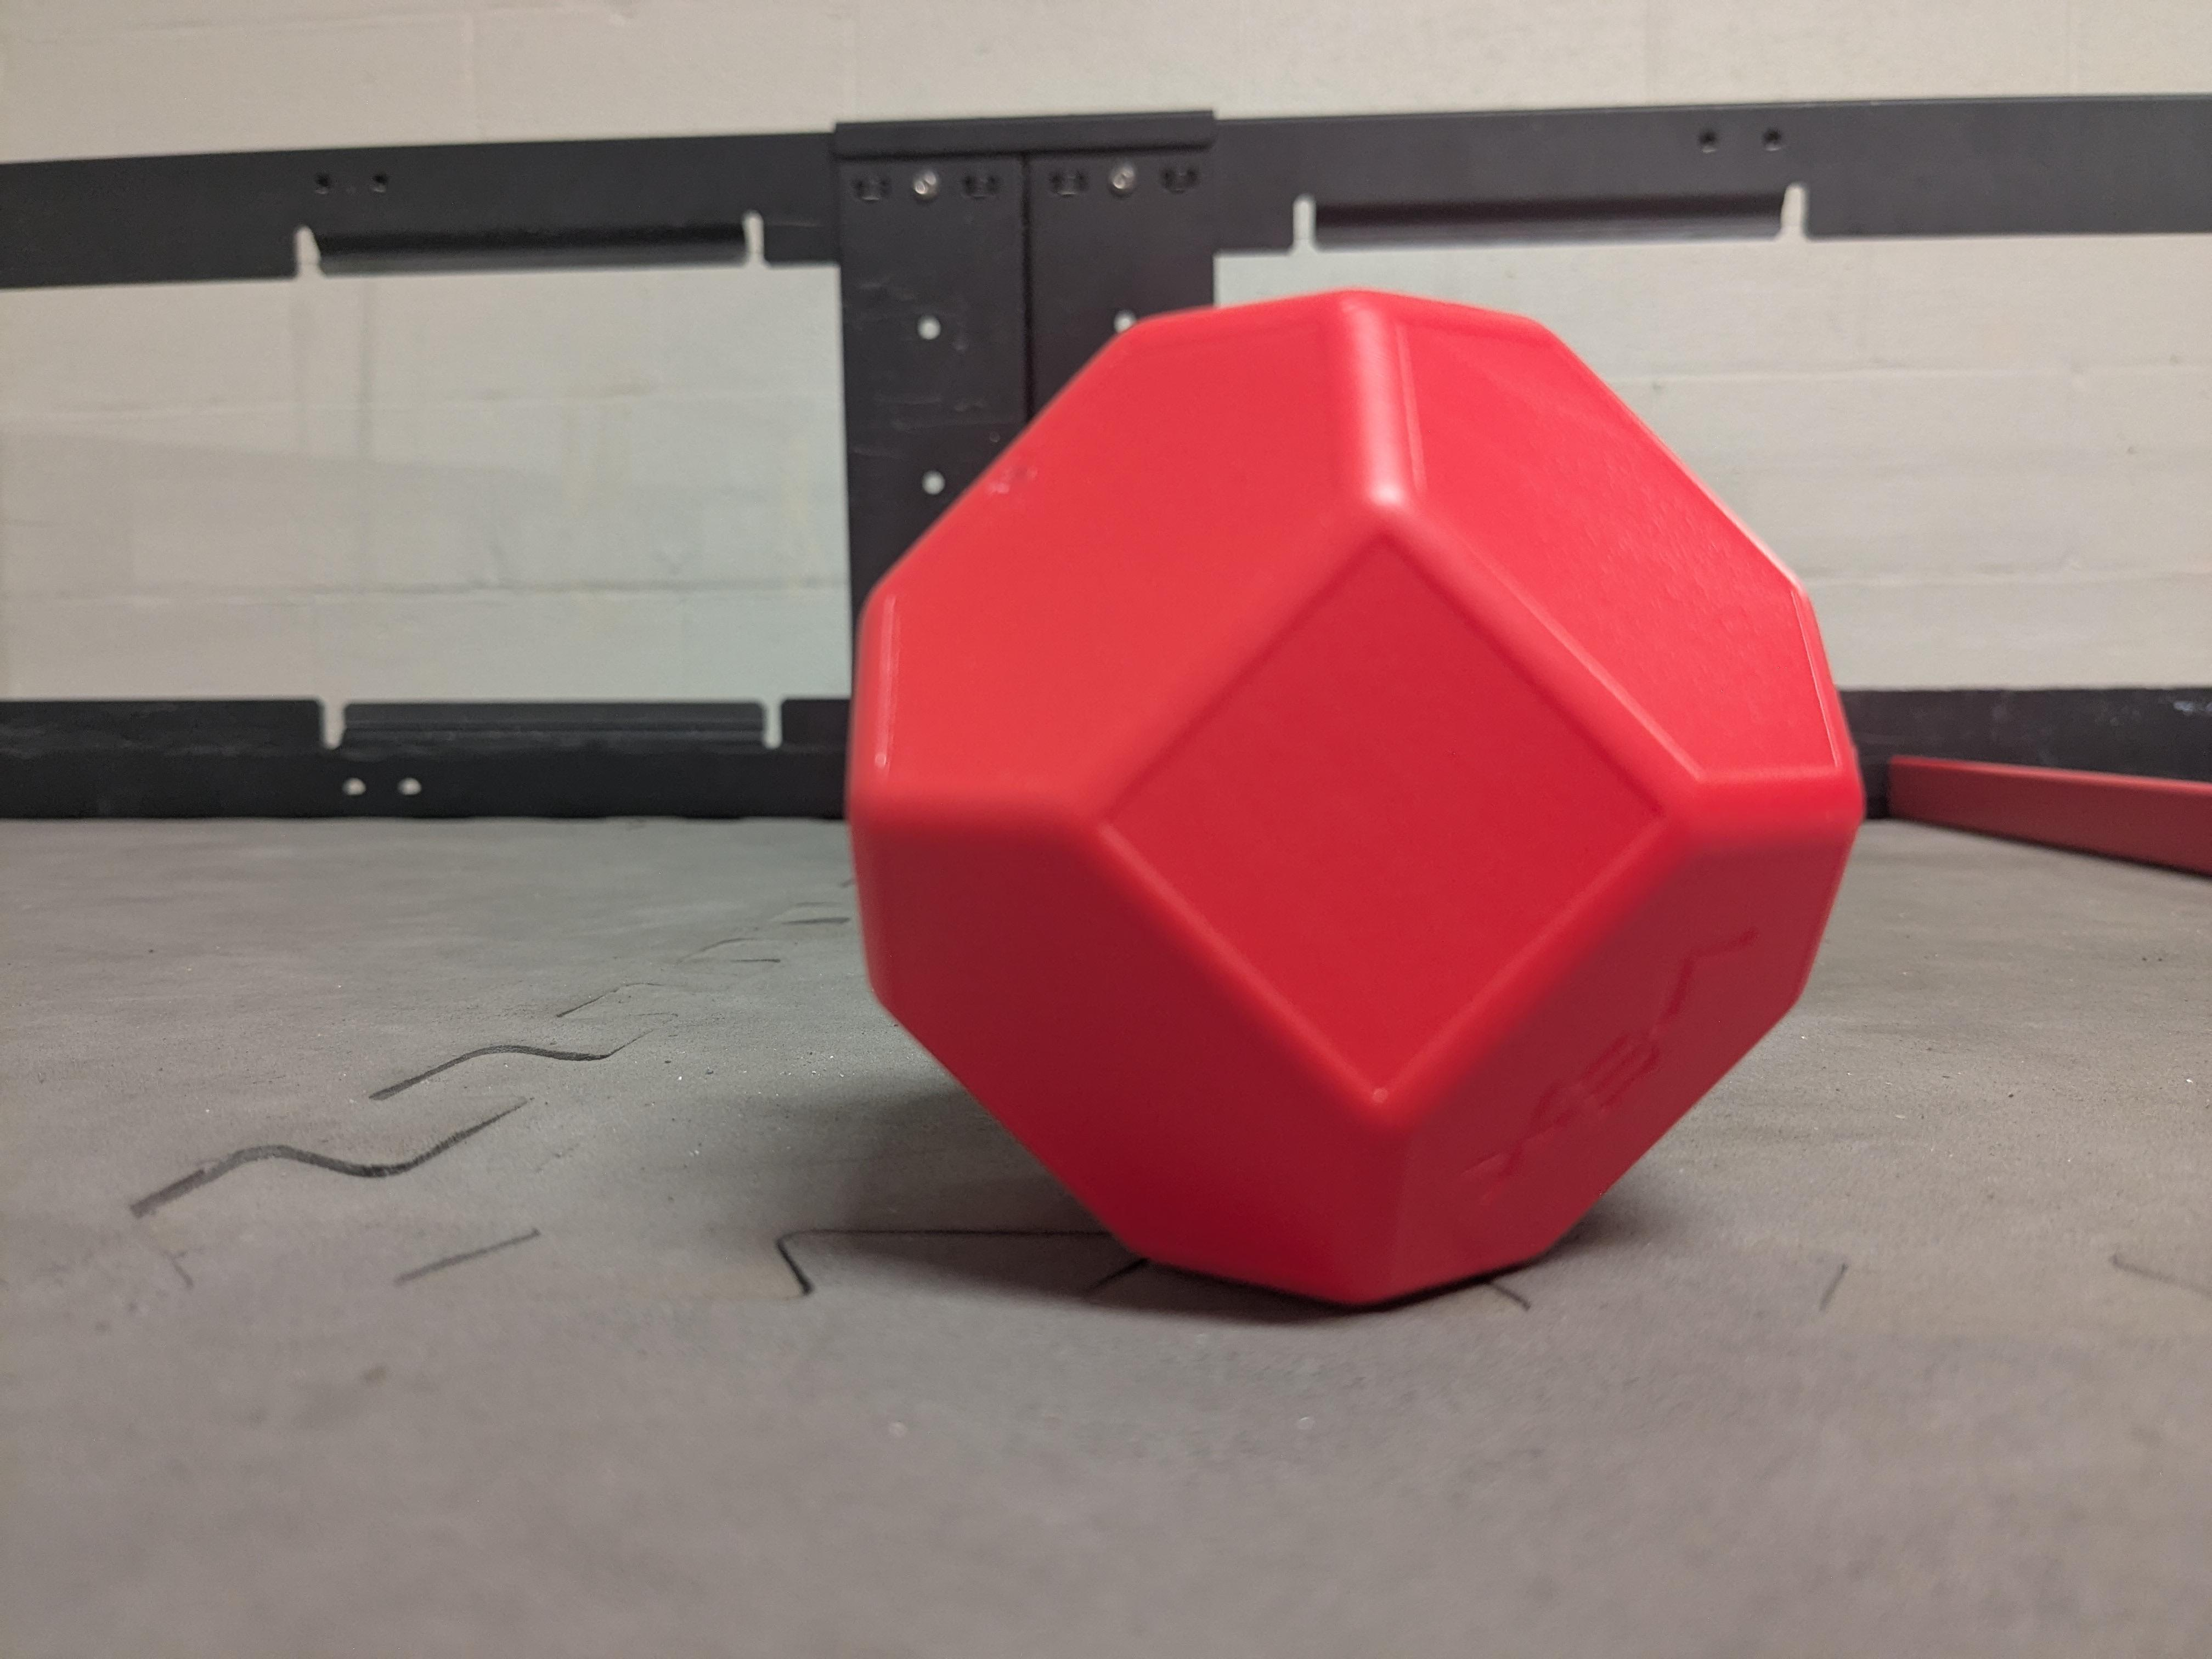Vex-Pieces-RED: (848, 291, 1862, 1304)
